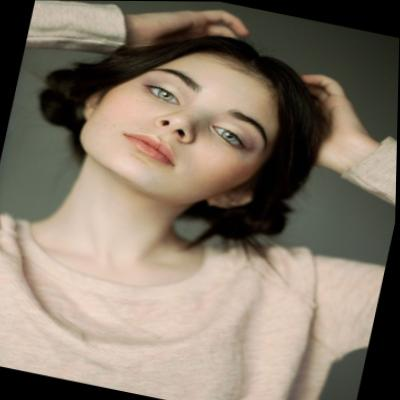netural: (69, 18, 296, 217)
